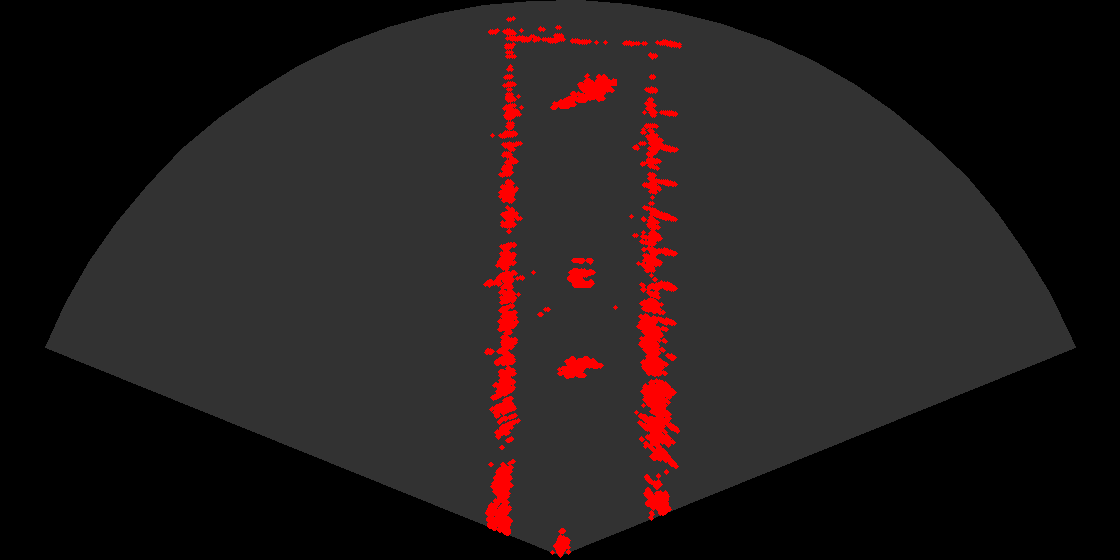AUV: (551, 354, 607, 386)
ball: (547, 250, 607, 291)
frogman: (549, 67, 617, 114)
